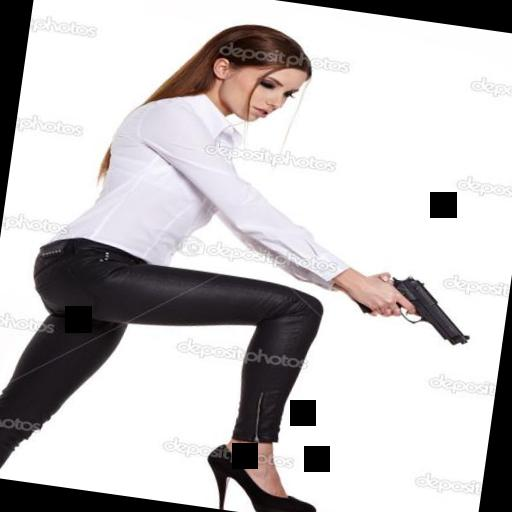Handgun: (358, 267, 482, 344)
